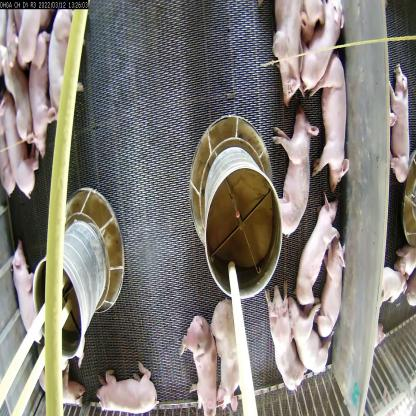Pig: (272, 108, 317, 241), (258, 276, 305, 400), (208, 291, 251, 415), (292, 191, 338, 305), (288, 285, 338, 377), (296, 0, 346, 91), (317, 65, 353, 187), (43, 7, 80, 124), (180, 315, 223, 415), (94, 357, 164, 416), (26, 32, 59, 152), (0, 100, 37, 204), (318, 234, 350, 352), (6, 237, 42, 339), (268, 0, 303, 101), (3, 53, 35, 147)
